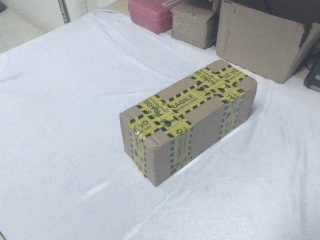box: (118, 59, 258, 187), (216, 1, 320, 83)
